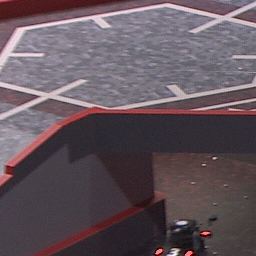Red: (155, 246, 193, 256)
Robot: (150, 219, 210, 256)
